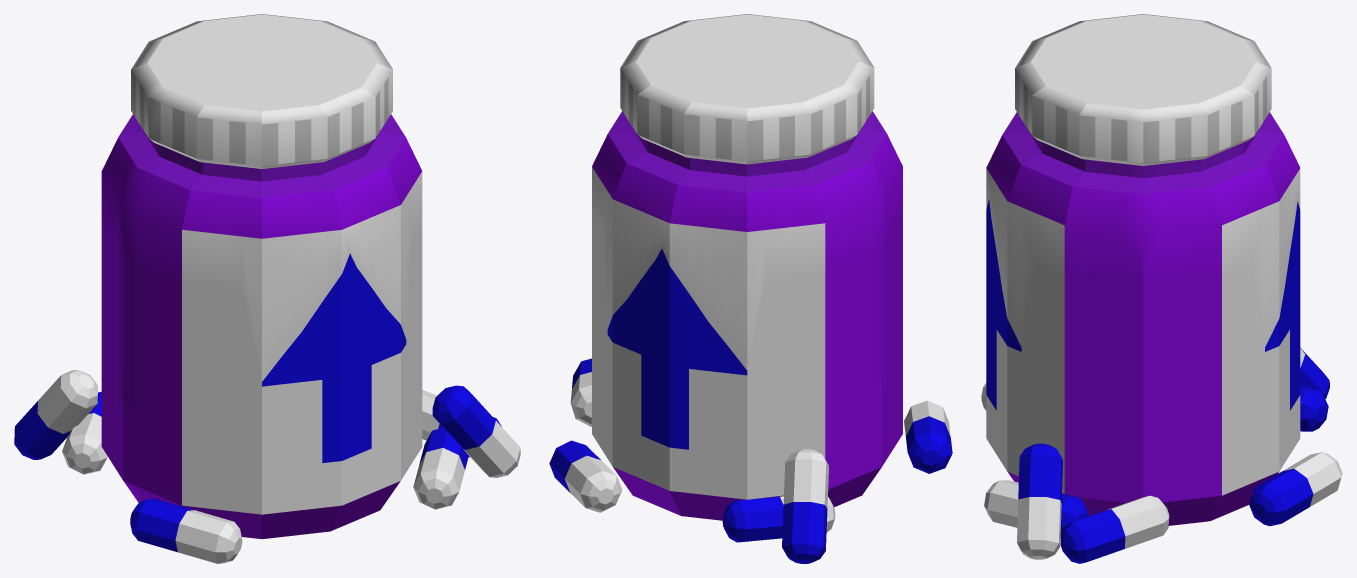
The model's file is bottleDmg.fbx.
3 renders of one model, left to right at view 1: azimuth 30°, elevation 25°; view 2: azimuth 150°, elevation 25°; view 3: azimuth 270°, elevation 25°, orthographic. The views are drawn at different scales.
Visible parts, largest first — view 1: dmgbottle; view 2: dmgbottle; view 3: dmgbottle.
Part boxes in pixels (box(x1,y1,x2,y2)): dmgbottle: box(14, 14, 520, 563); dmgbottle: box(549, 14, 952, 563); dmgbottle: box(981, 14, 1342, 563).
Size of the model in its own units: 2.72 by 2.9 by 2.3.
